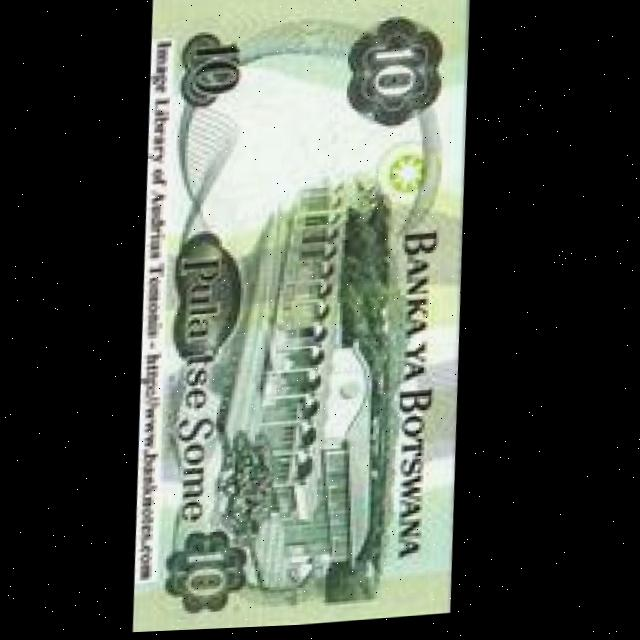banknote: (118, 0, 494, 635)
